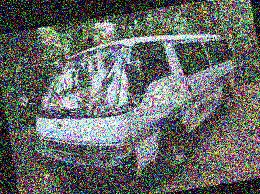van: (12, 22, 255, 194)
